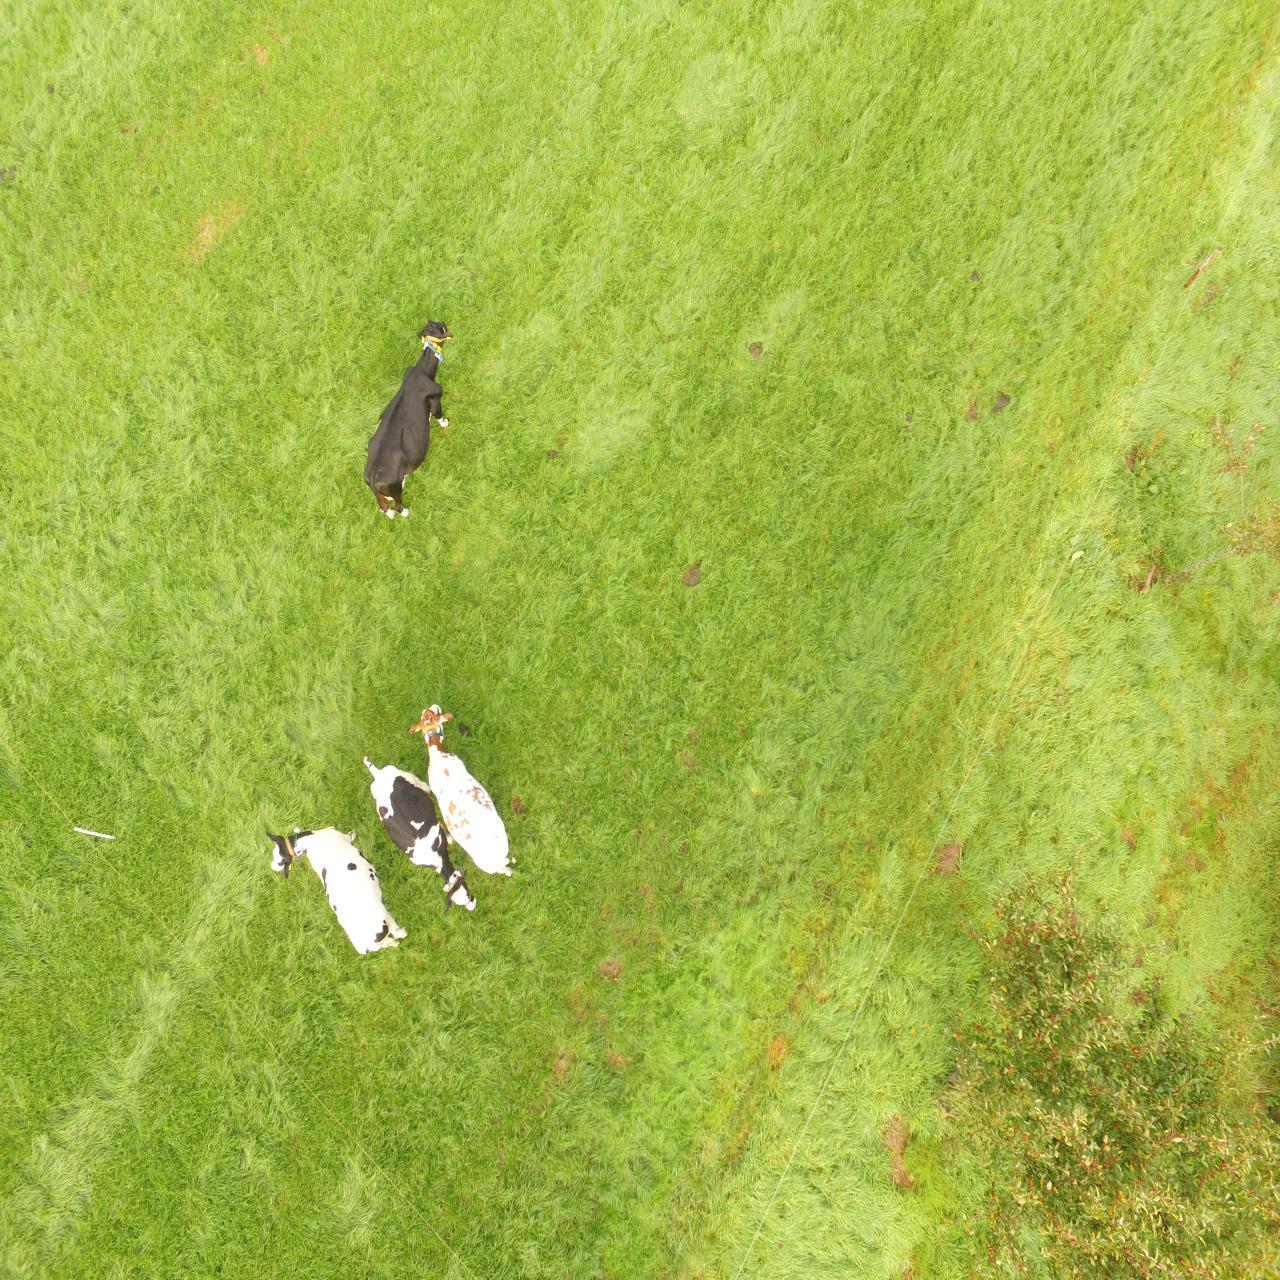cow: (358, 757, 479, 919), (264, 825, 407, 959), (413, 701, 511, 879), (366, 313, 449, 522)
